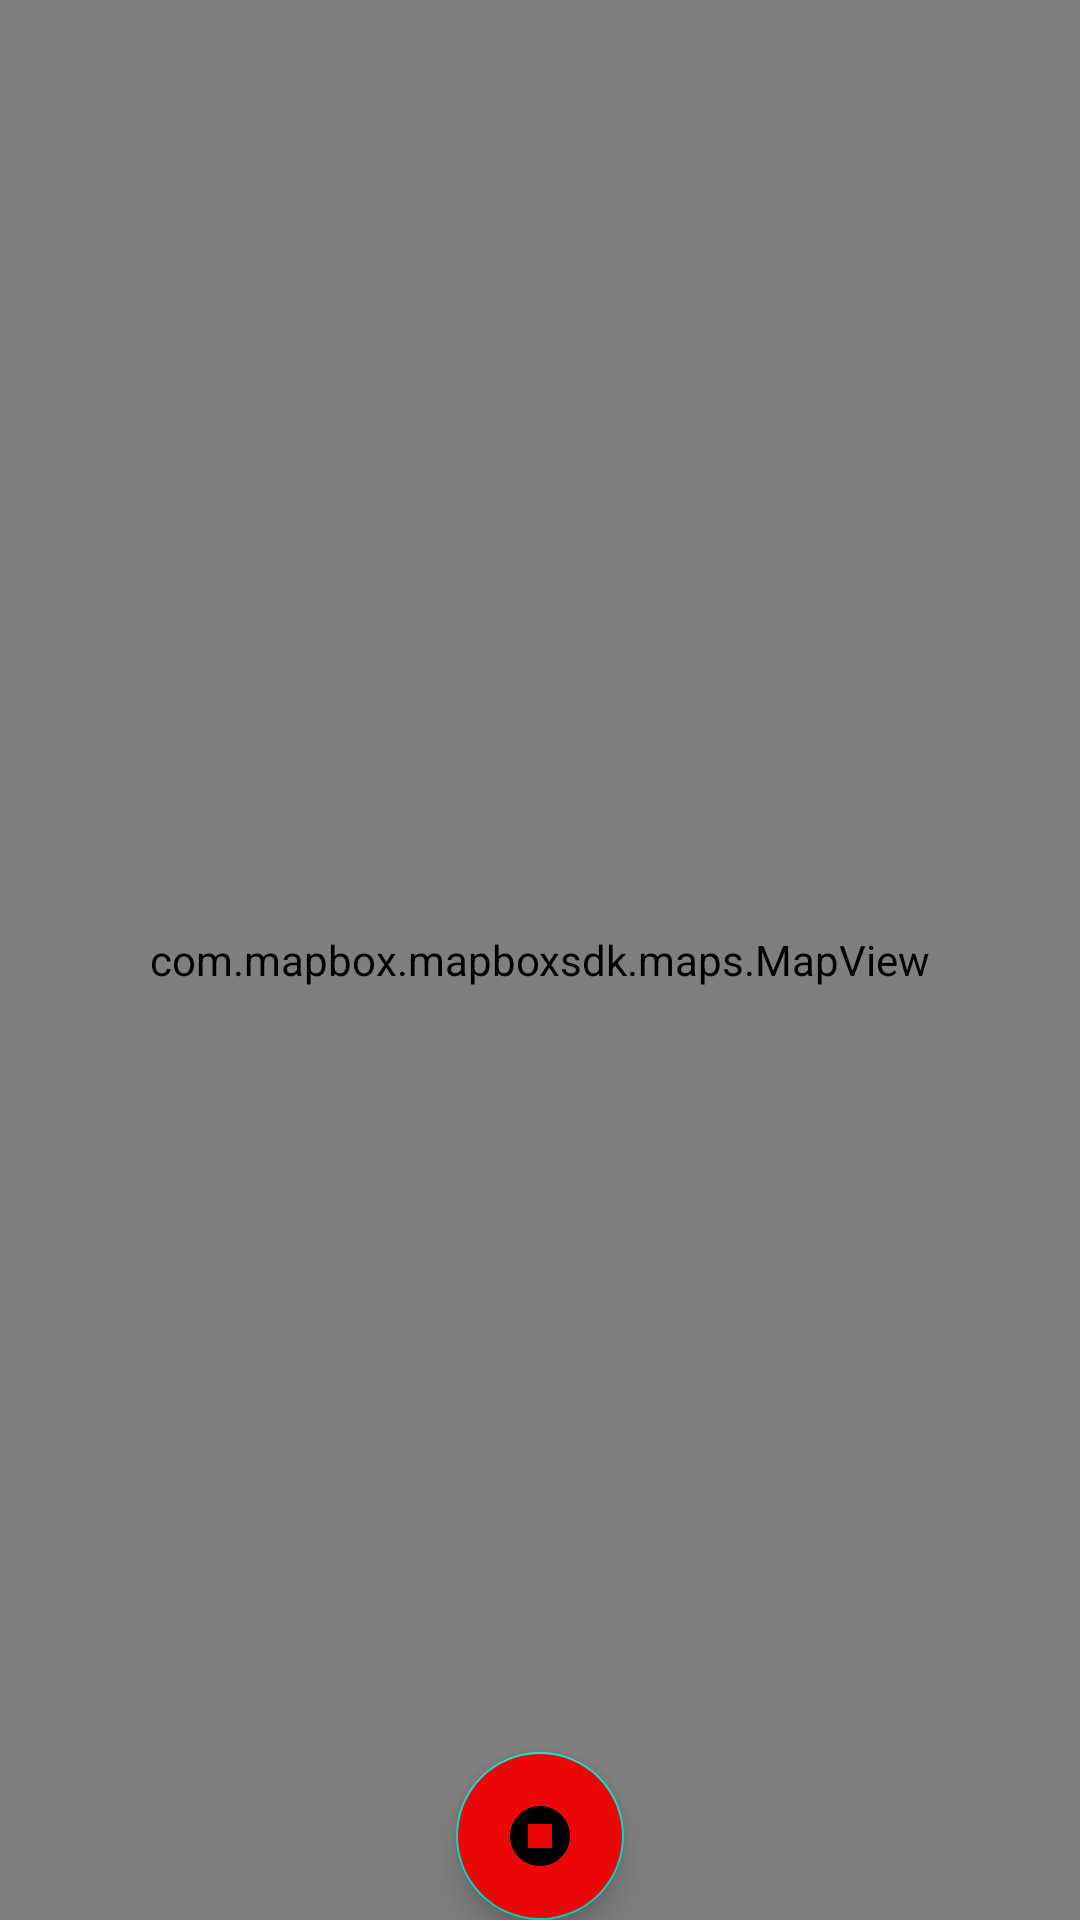

Icon bounding boxes for this 1080x1920 phone screenshot, format (x1, y1, x2, y2):
stop run: (456, 1752, 624, 1920)
